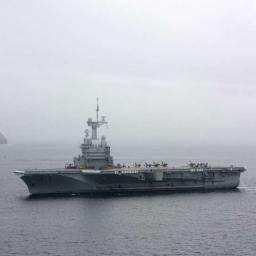Portanaves: (13, 95, 248, 199)
